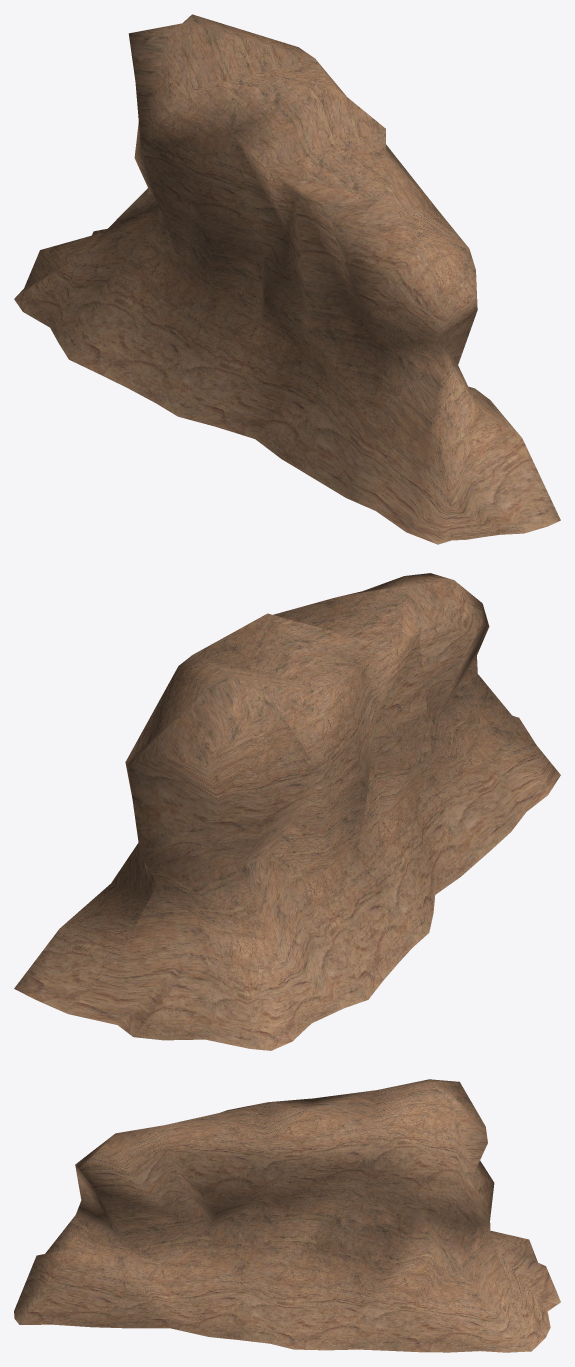
File: rock_tatt_spire_fin_l2.fbx
3 views of the same model, one above another, from view 1: azimuth 30°, elevation 25°; view 2: azimuth 150°, elevation 25°; view 3: azimuth 270°, elevation 25° (orthographic). The views are drawn at different scales.
Visible parts, largest first — view 1: mesh_node; view 2: mesh_node; view 3: mesh_node.
Boxes of the visible parts, bbox=[...] form: mesh_node: bbox=[14, 14, 560, 544]; mesh_node: bbox=[14, 573, 560, 1050]; mesh_node: bbox=[14, 1079, 560, 1352].
Bounding box in the file's own units: 98.84 × 98.94 × 229.
1 material, 1 textured.
